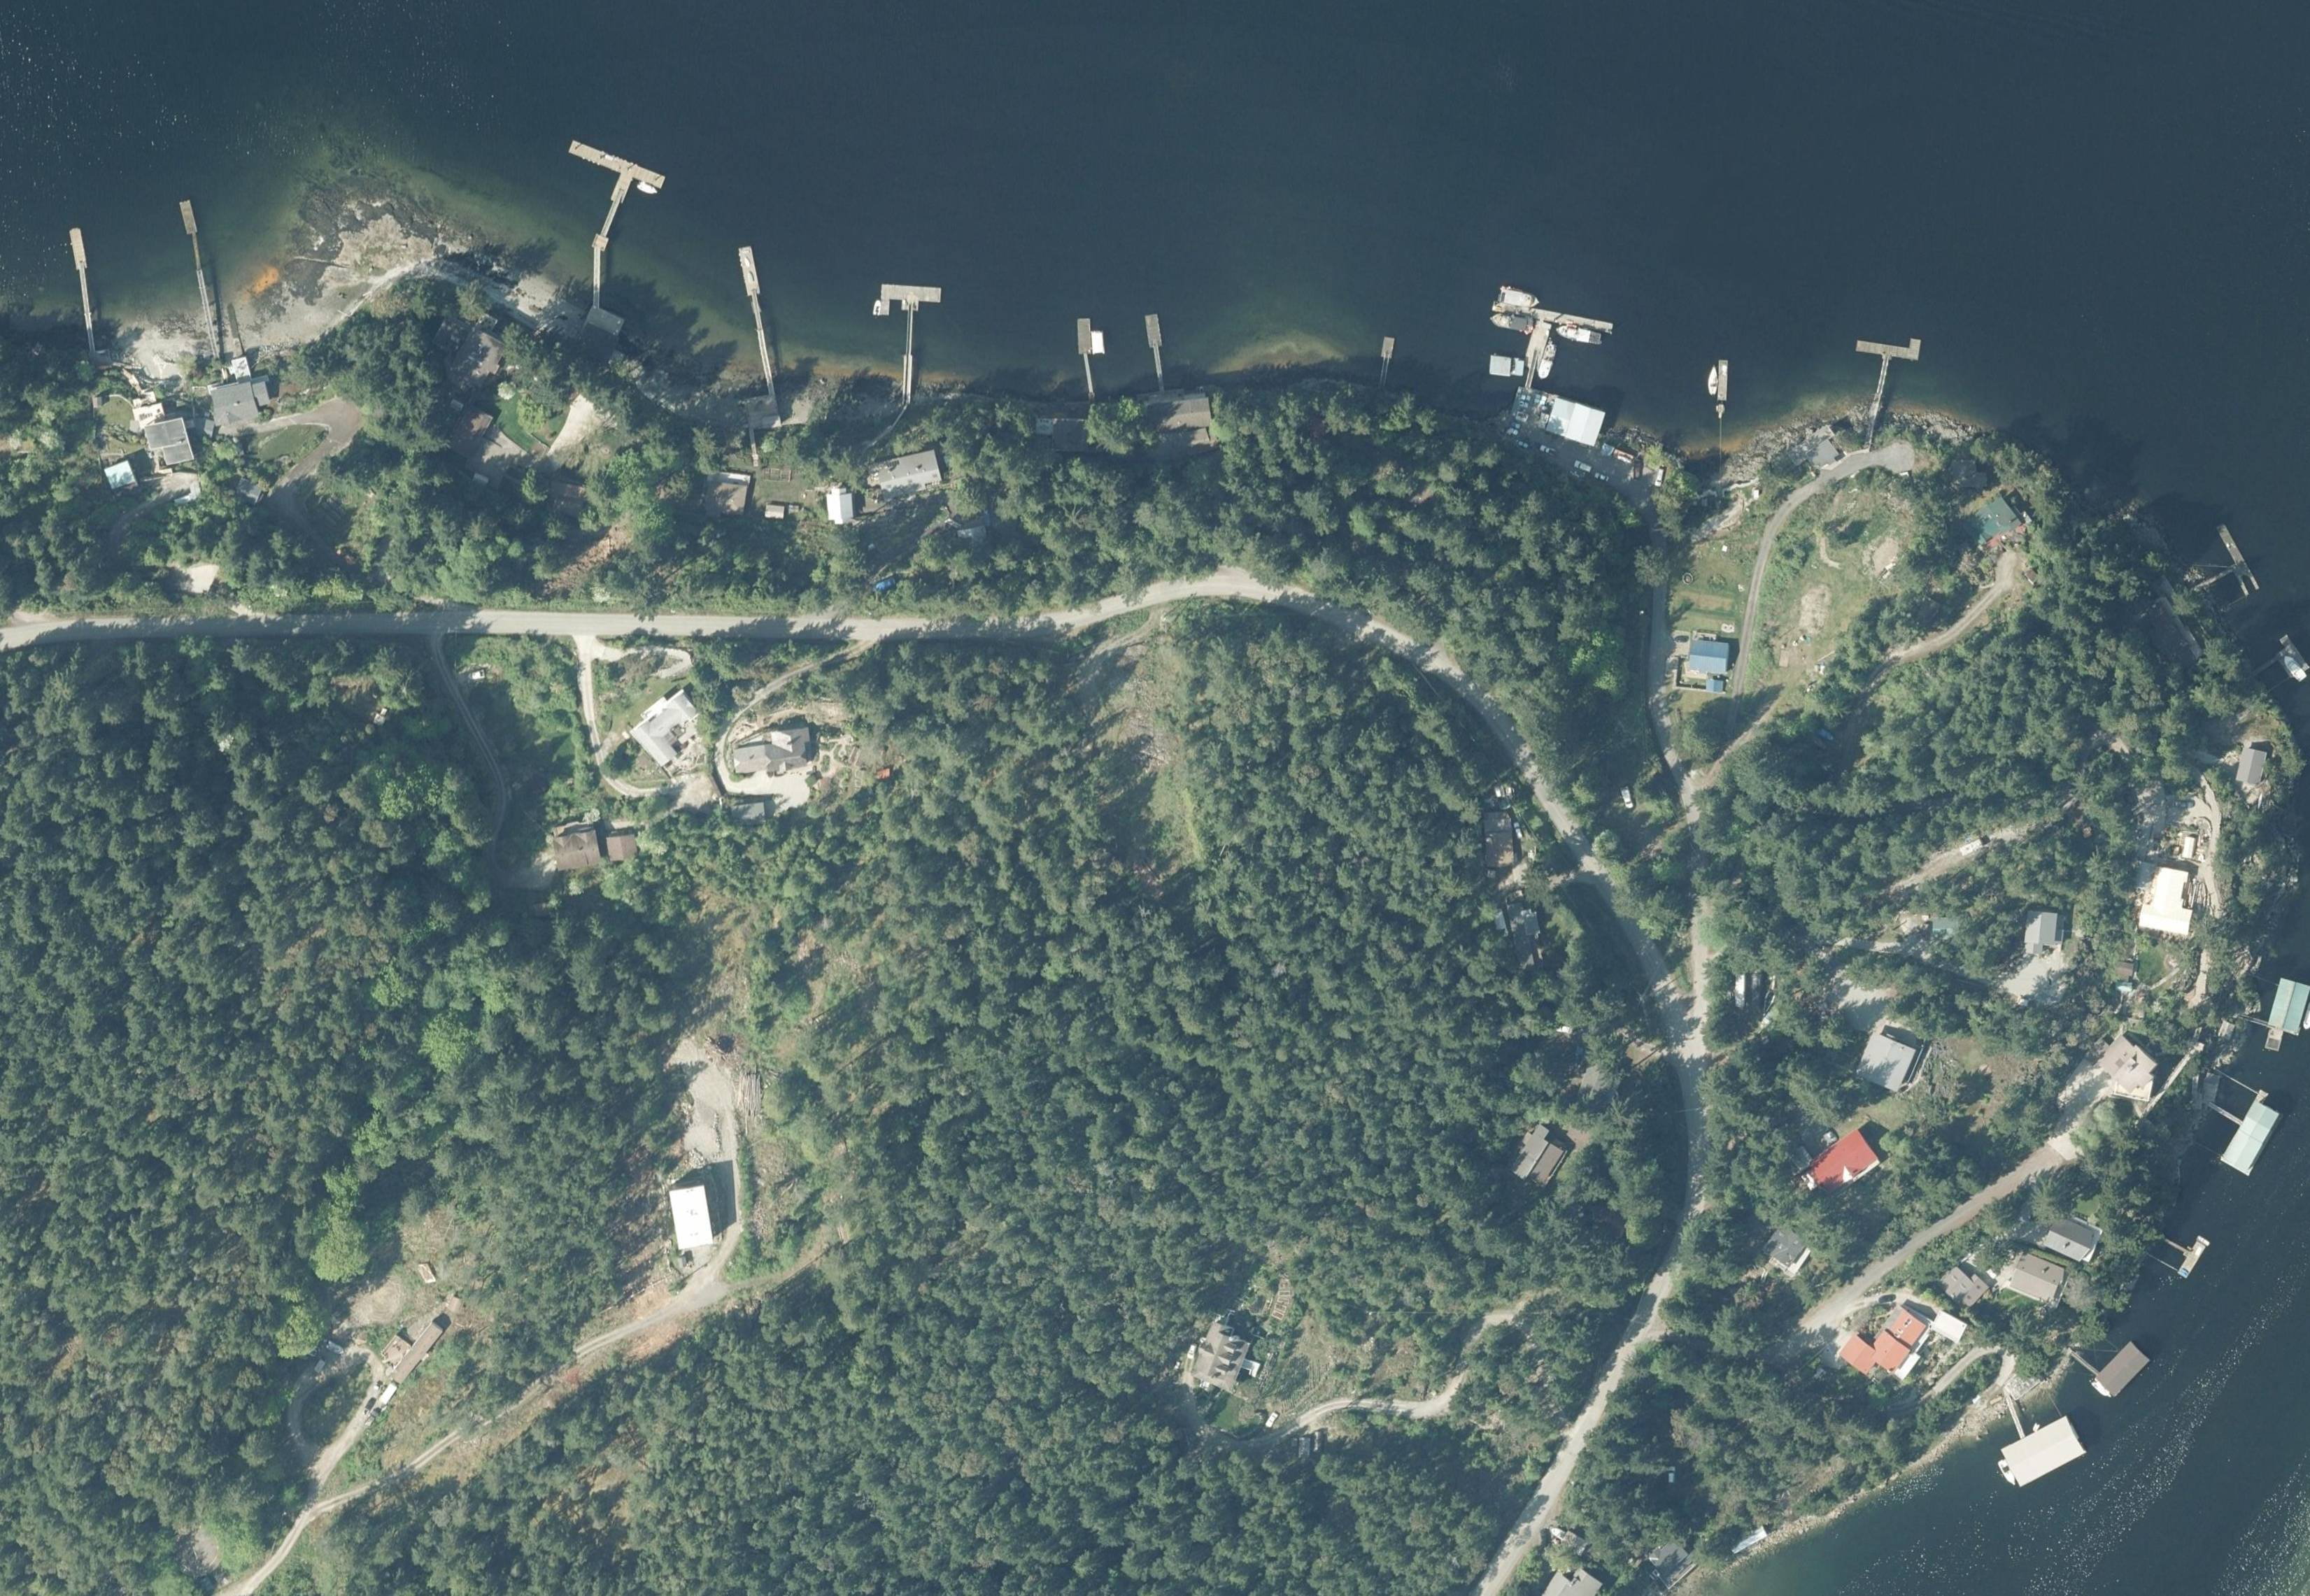harbor: (532, 140, 667, 265), (1473, 290, 1613, 406), (1987, 1384, 2087, 1489), (2192, 1069, 2289, 1176), (871, 283, 941, 400), (172, 200, 225, 337), (2180, 523, 2259, 611), (1845, 328, 1922, 413), (2071, 1322, 2152, 1399), (737, 248, 779, 392), (68, 226, 102, 351), (2150, 1220, 2212, 1280), (1074, 316, 1111, 399), (1144, 314, 1169, 392), (1715, 362, 1727, 448), (1376, 337, 1395, 388)
